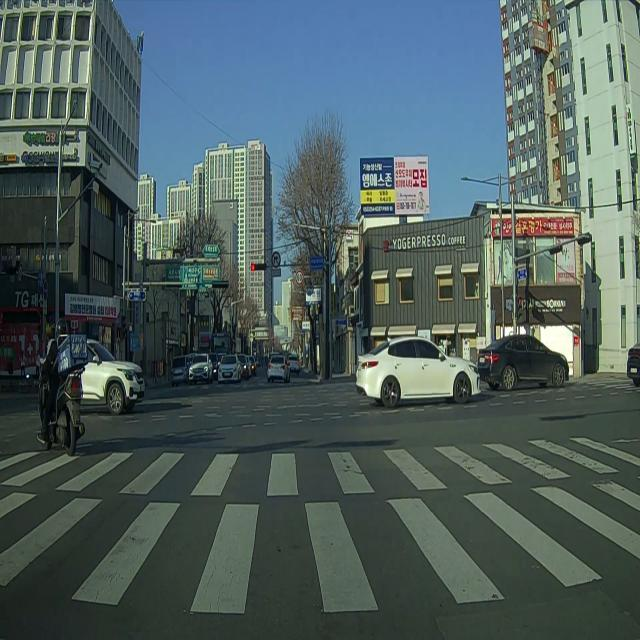crosswalk: (2, 436, 639, 615), (576, 374, 639, 393)
